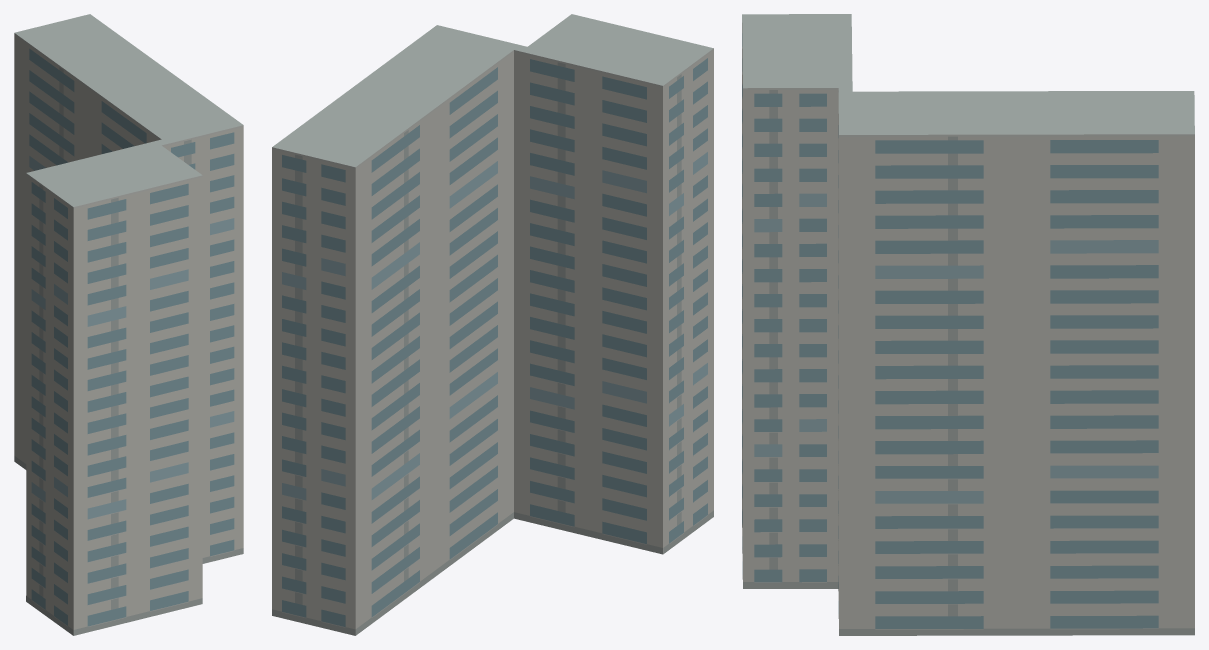
The model's file is residential-3fc84adc-0ae9-445b-a7ce-1bb2337f3394.glb.
3 renders of one model, left to right at view 1: azimuth 30°, elevation 25°; view 2: azimuth 150°, elevation 25°; view 3: azimuth 270°, elevation 25°, orthographic. The views are drawn at different scales.
Parts seen in each view (by area): view 1: residential-3fc84adc-0ae9-445b-a7ce-1bb2337f3394.tmp; view 2: residential-3fc84adc-0ae9-445b-a7ce-1bb2337f3394.tmp; view 3: residential-3fc84adc-0ae9-445b-a7ce-1bb2337f3394.tmp.
Boxes of the visible parts, x1,y1,x2,y2 form: residential-3fc84adc-0ae9-445b-a7ce-1bb2337f3394.tmp: (14,14,243,635); residential-3fc84adc-0ae9-445b-a7ce-1bb2337f3394.tmp: (272,14,713,635); residential-3fc84adc-0ae9-445b-a7ce-1bb2337f3394.tmp: (742,14,1194,635).
Bounding box in the file's own units: 33.68 × 65 × 53.27.
